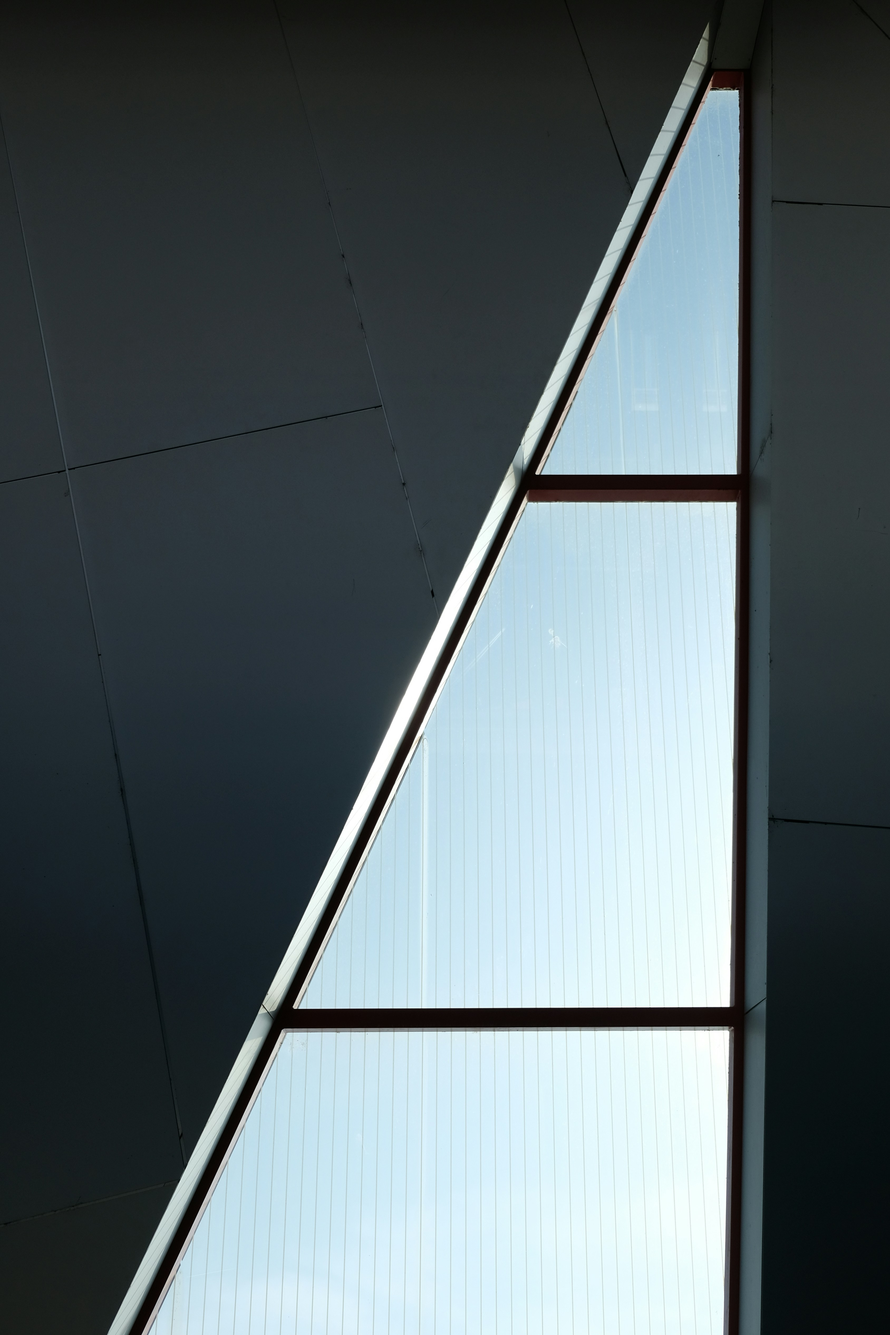glass_panel: (301, 502, 736, 1008), (152, 1031, 728, 1335), (544, 90, 739, 473)
